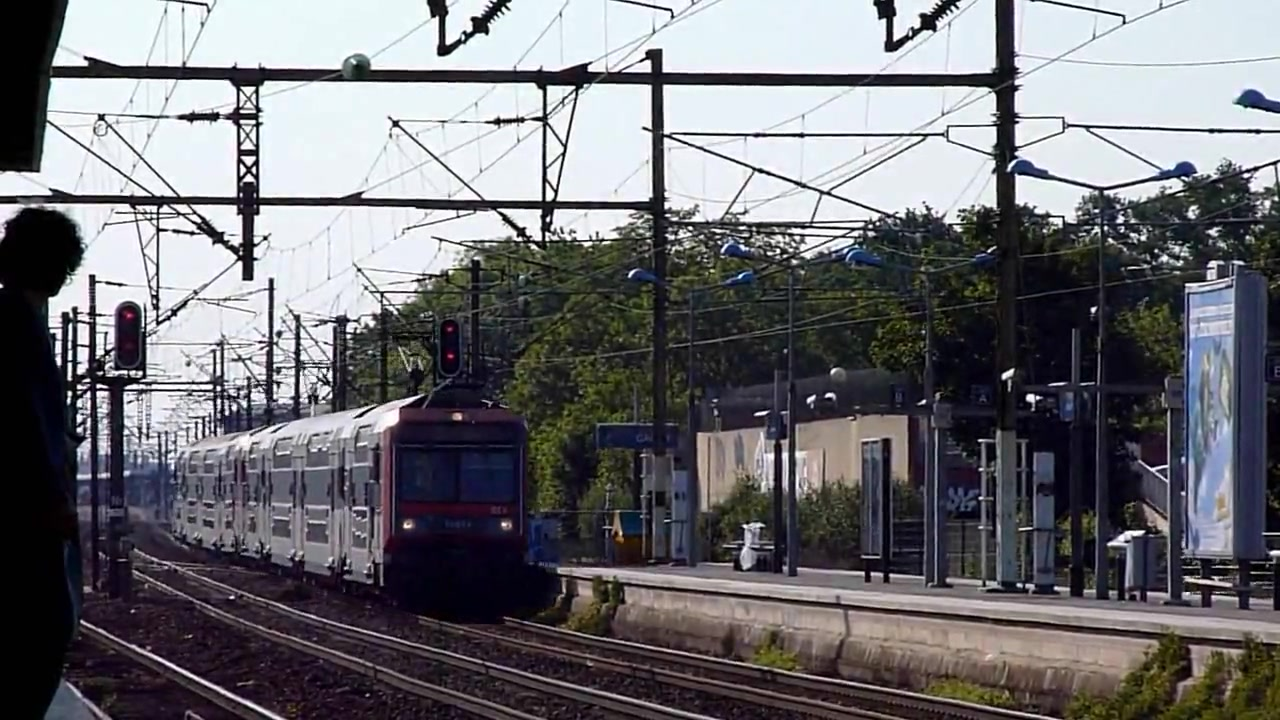train: (171, 386, 534, 601)
